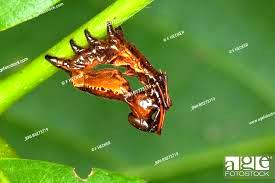Caterpillar: (45, 20, 172, 136)
